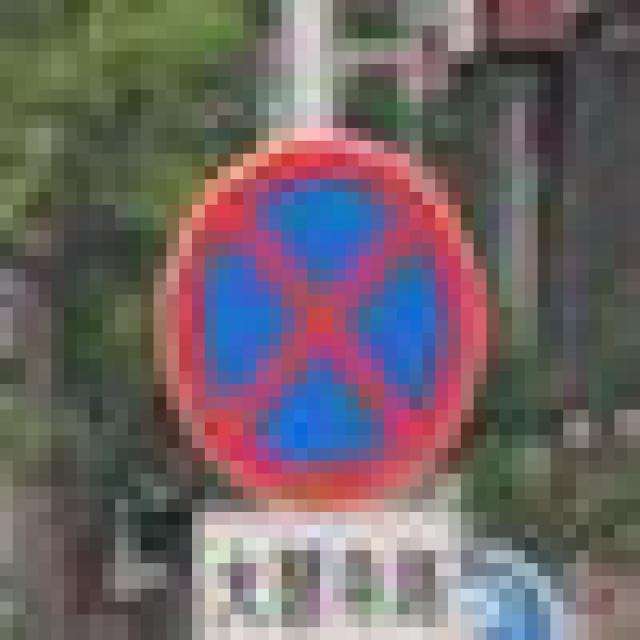no_parking: (128, 128, 474, 499)
